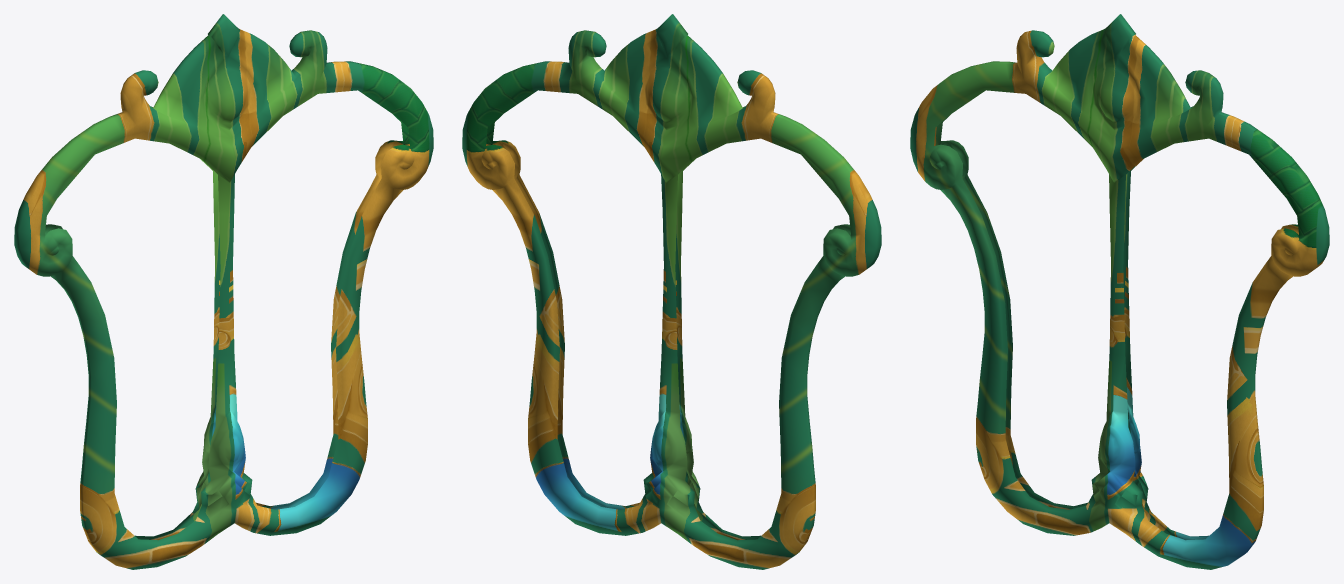
The model's file is Mod_390_BJS_003.FBX.
The picture shows the model from 3 angles, left to right: view 1: azimuth 30°, elevation 25°; view 2: azimuth 150°, elevation 25°; view 3: azimuth 330°, elevation 25°; orthographic projection.
Parts seen in each view (by area): view 1: fish390; view 2: fish390; view 3: fish390.
Boxes of the visible parts, x1,y1,x2,y2 form: fish390: [14, 14, 433, 569]; fish390: [462, 14, 881, 569]; fish390: [910, 14, 1329, 569].
Size of the model in its own units: 82.35 by 101 by 8.61.
